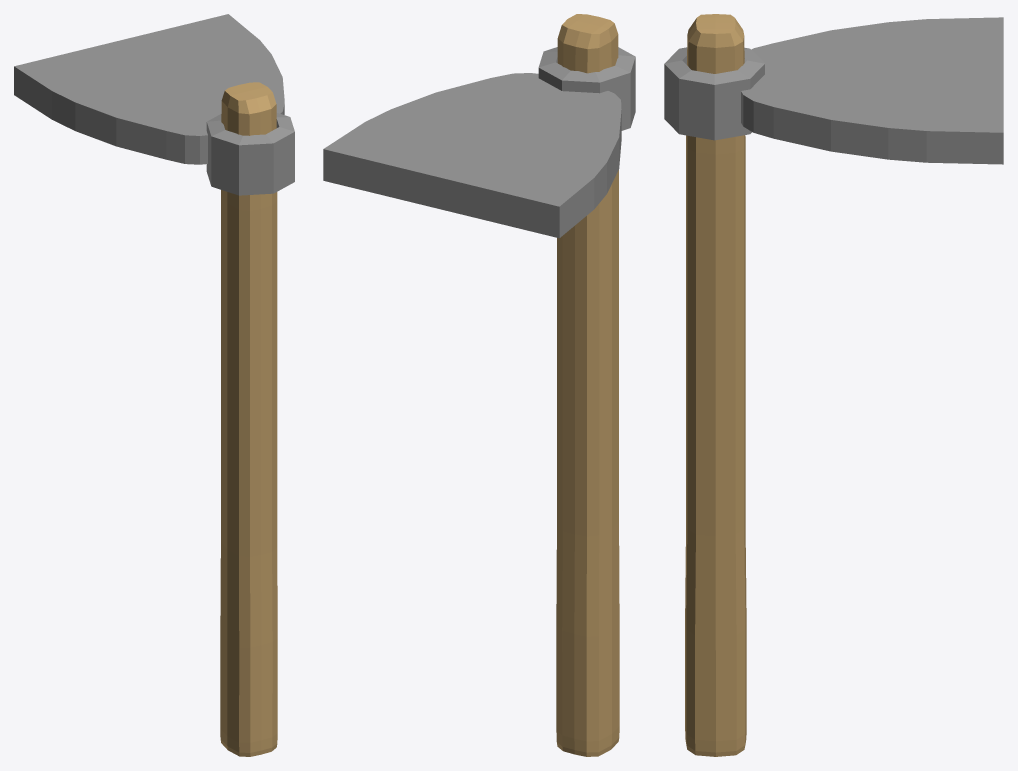
File: hoe.fbx
The picture shows the model from 3 angles, left to right: view 1: azimuth 30°, elevation 25°; view 2: azimuth 150°, elevation 25°; view 3: azimuth 270°, elevation 25°; orthographic projection. The views are drawn at different scales.
Visible parts, largest first — view 1: Cube.002; view 2: Cube.002; view 3: Cube.002.
Part boxes in pixels (left/top/right/bottom): Cube.002: left=14, top=14, right=294, bottom=756; Cube.002: left=323, top=14, right=635, bottom=756; Cube.002: left=664, top=14, right=1003, bottom=756.
Size of the model in its own units: 119 by 348 by 148.
